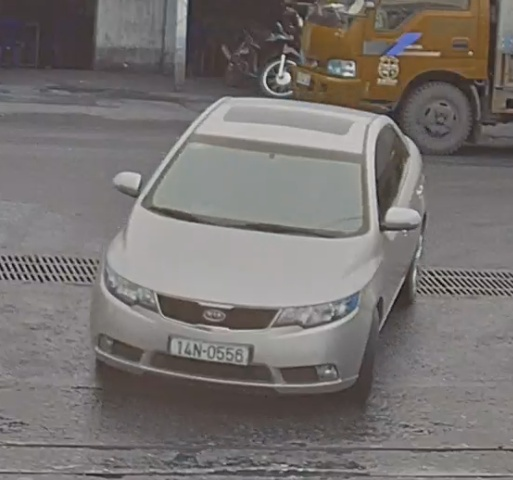vehicle plate: (163, 329, 251, 373)
